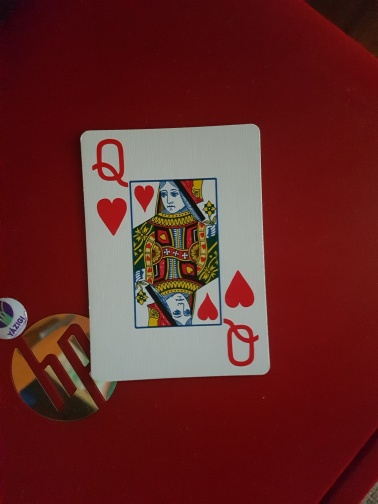queen: (79, 123, 270, 380)
